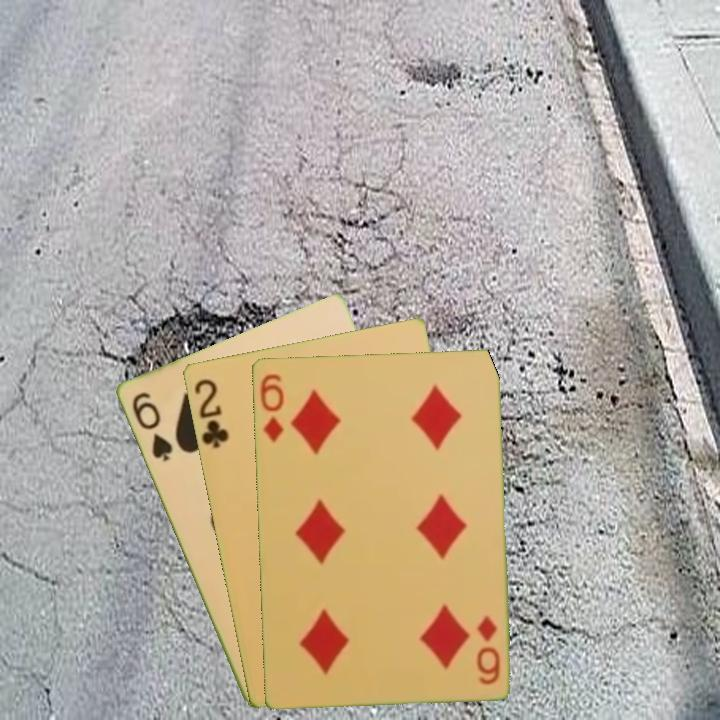2c: (190, 375, 231, 451)
6d: (256, 369, 287, 446), (473, 611, 502, 687)
6s: (128, 388, 175, 464)
